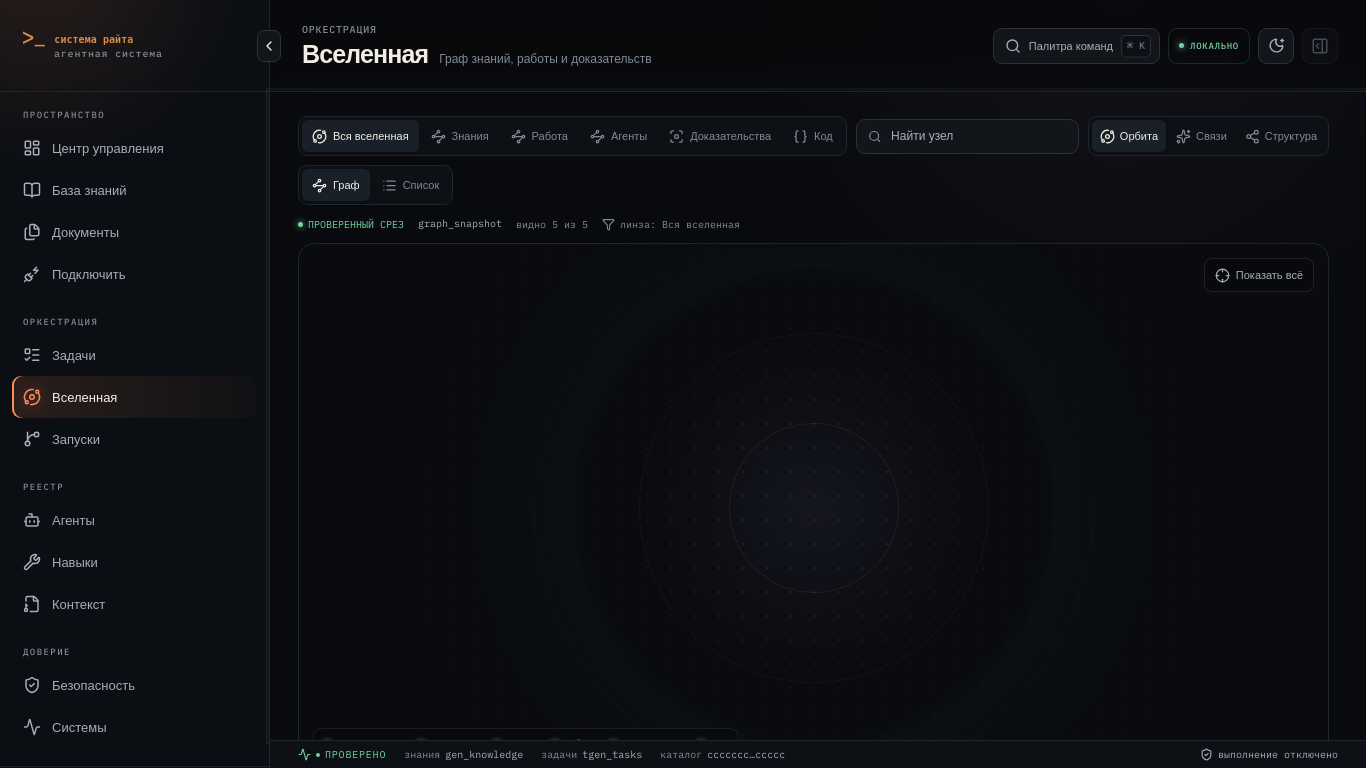
it: raytsystem control plane › keeps the accessible list equivalent working in the links layout
Click the button with aria-label "Связи — интерактивный граф отношений": click(1201, 136) [1168, 120, 1235, 152]
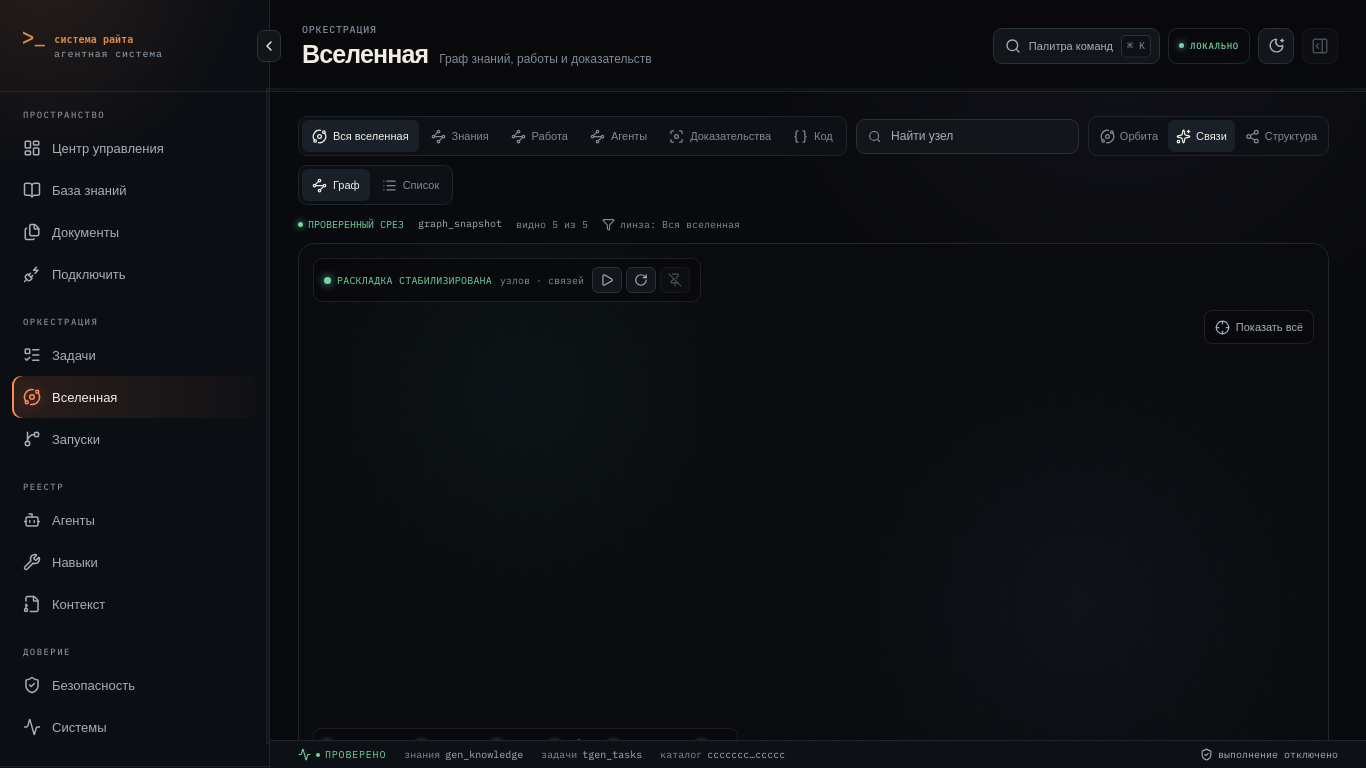
Click the button "Список": click(410, 185) [372, 169, 449, 201]
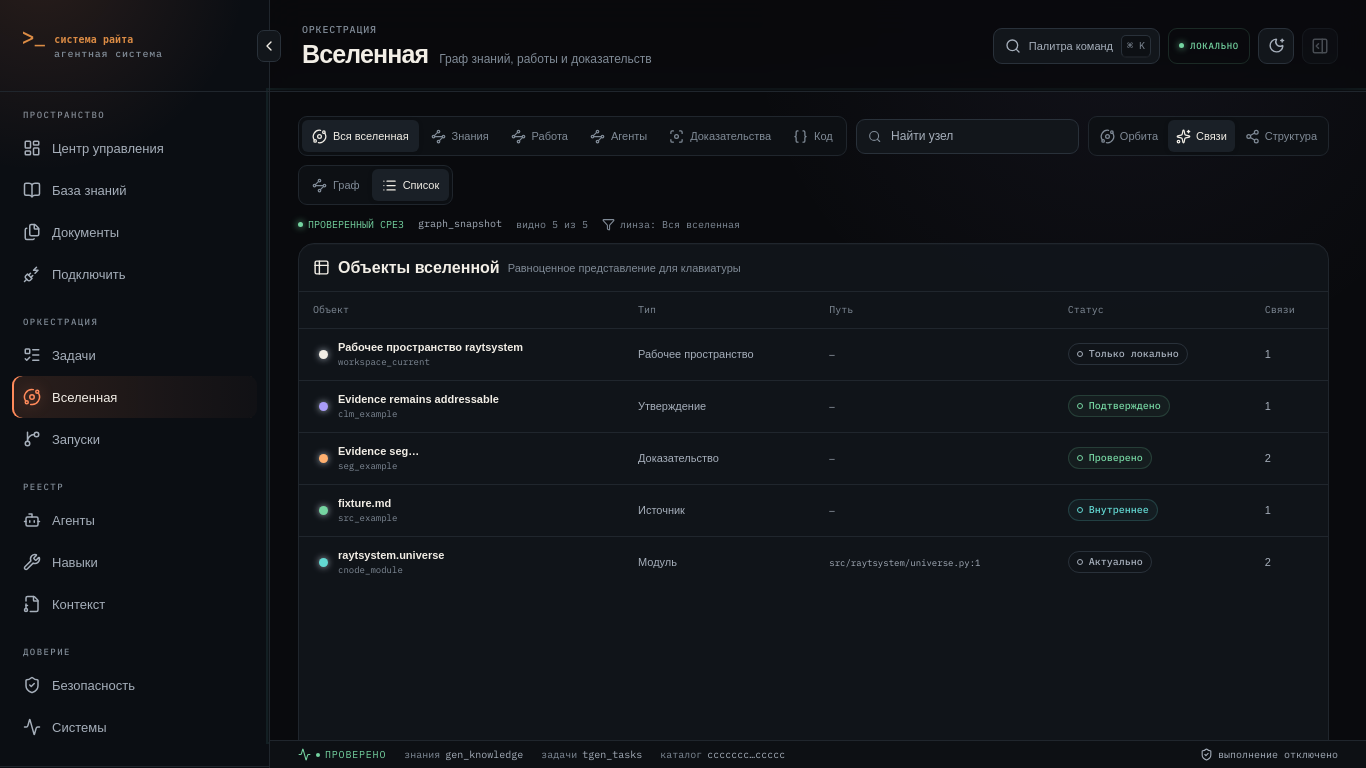
expect the text "Evidence remains addressable" is shown: met, box [338, 393, 499, 405]
